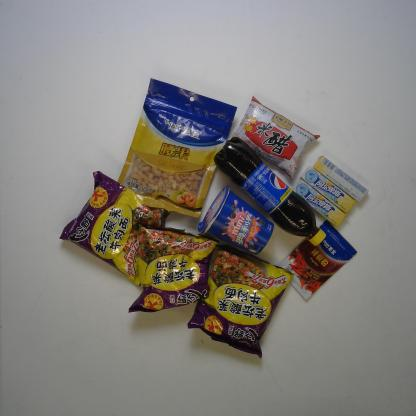Candy: (299, 166, 356, 214), (292, 179, 348, 227), (313, 155, 370, 202)
Dessert: (198, 184, 274, 256)
Dried Fruit: (116, 77, 239, 219)
Drink: (212, 136, 328, 247)
Instant Noodles: (57, 170, 169, 288), (185, 240, 294, 360), (127, 222, 221, 315)
Seasoner: (225, 95, 322, 180), (278, 219, 358, 301)
